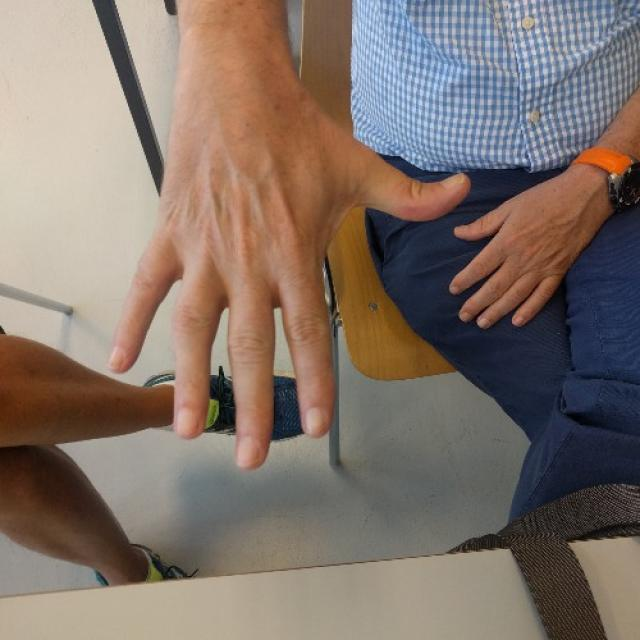paper: (107, 171, 476, 471)
